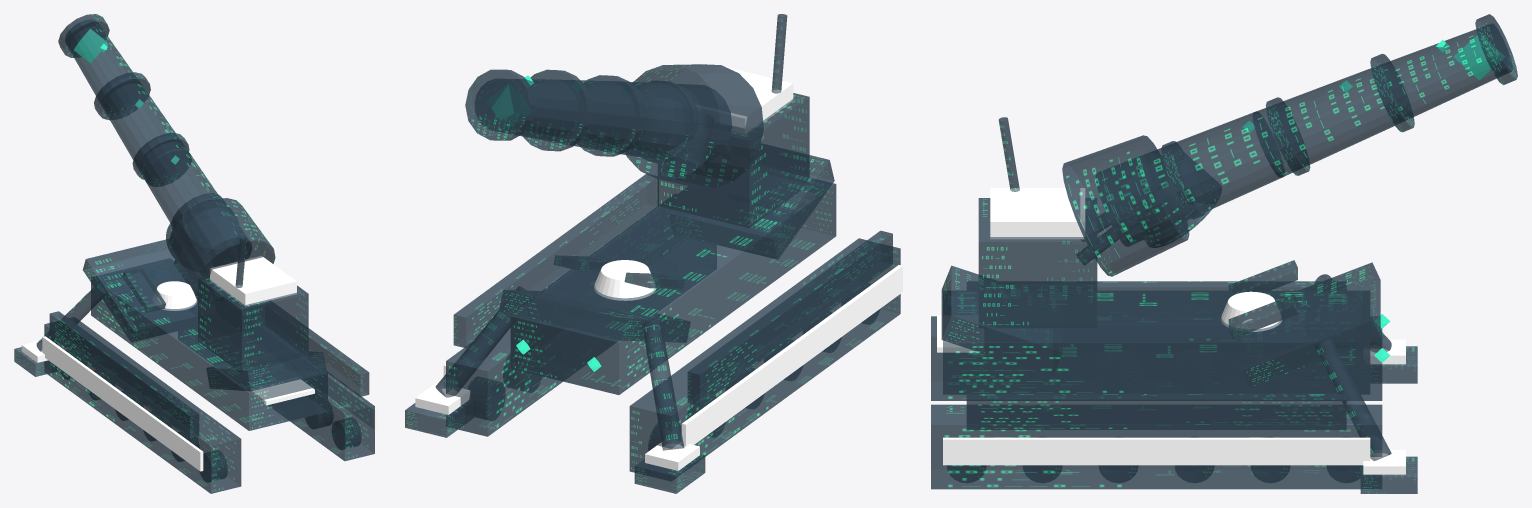
Rendered from artillerie.glb.
3 views of the same model, side by side, from view 1: azimuth 30°, elevation 25°; view 2: azimuth 150°, elevation 25°; view 3: azimuth 270°, elevation 25° (orthographic). The views are drawn at different scales.
Parts seen in each view (by area): view 1: guerrier; view 2: guerrier; view 3: guerrier.
Part boxes in pixels (bbox=[...]): guerrier: bbox=[14, 14, 376, 493]; guerrier: bbox=[405, 14, 902, 493]; guerrier: bbox=[931, 14, 1517, 493].
Size of the model in its own units: 1.3 by 1.94 by 2.47.
